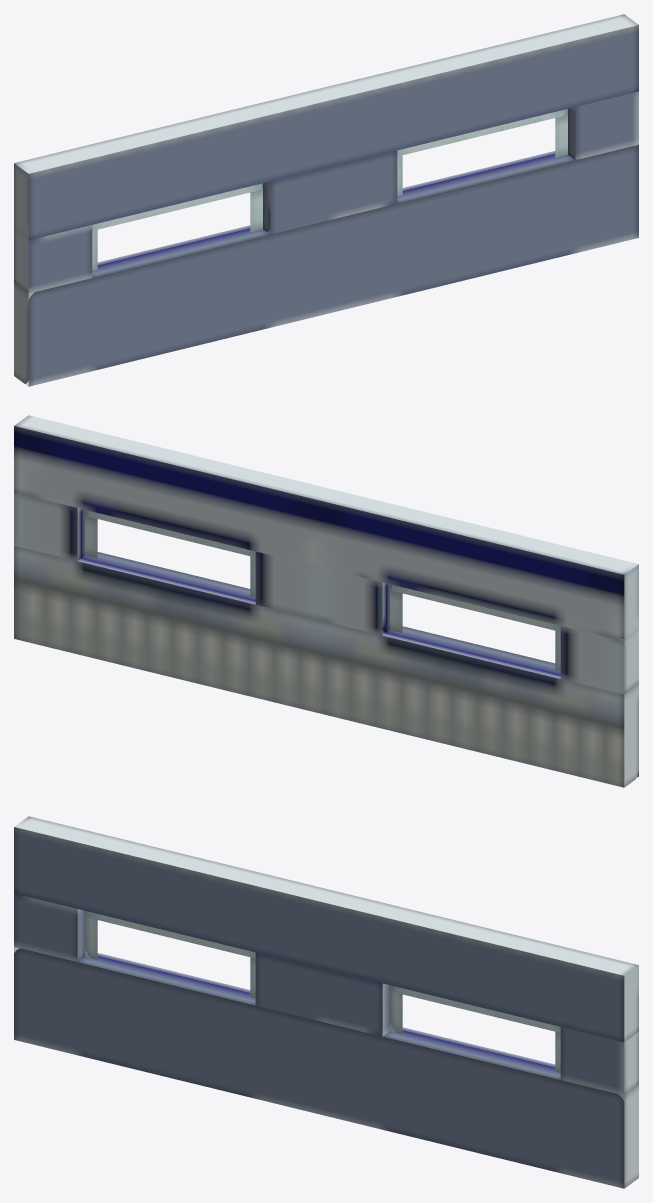
The model's file is df21_equip_window_lh.obj.
The picture shows the model from 3 angles, top to bottom: view 1: azimuth 30°, elevation 25°; view 2: azimuth 150°, elevation 25°; view 3: azimuth 330°, elevation 25°; orthographic projection.
Parts seen in each view (by area): view 1: 1; view 2: 1; view 3: 1.
Part boxes in pixels (x1,y1,x2,y2): 1: (14,14,638,386); 1: (14,415,638,787); 1: (14,816,638,1188).
Bounding box in the file's own units: 3 × 1 × 0.125.
